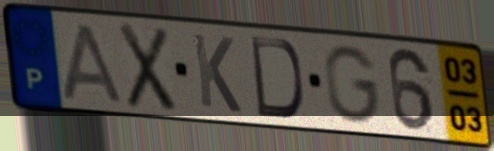6: (387, 45, 436, 133)
A: (60, 20, 127, 107)
D: (247, 34, 307, 122)
G: (321, 43, 384, 127)
K: (189, 30, 244, 116)
X: (116, 20, 179, 115)
